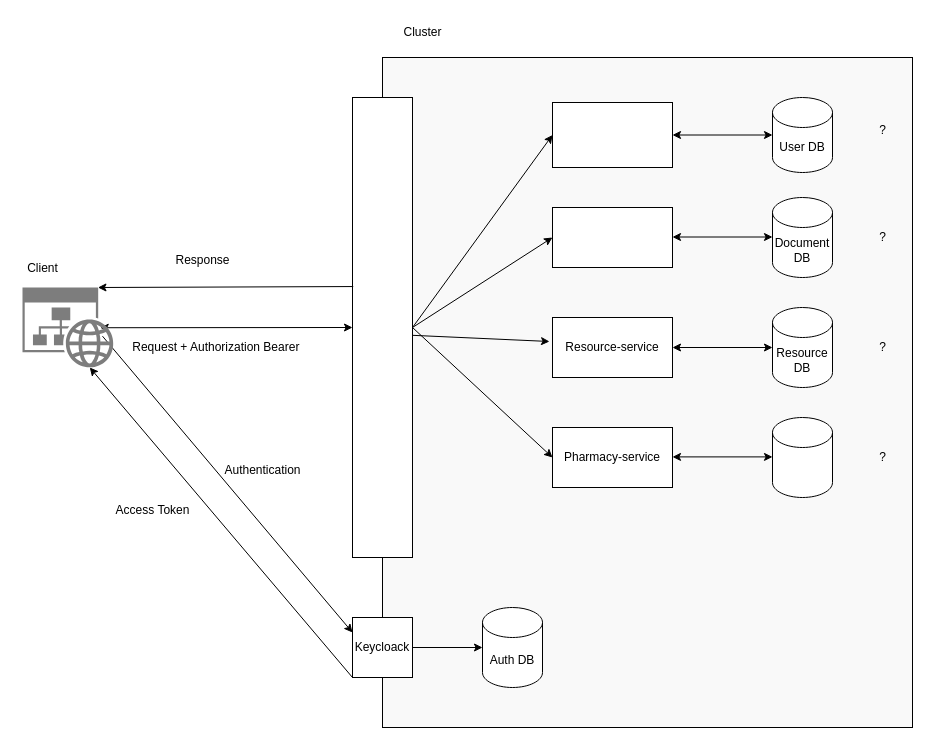
The diagram is 930 pixels wide and 745 high, and some of its shapes have lost their labels. Each missing label, with the centre of its shape:
"Document-service" belongs at (612,237).
"Gateway" belongs at (382,327).
"Patients-service" belongs at (612,135).
"Pharmacy DB" belongs at (802,457).
